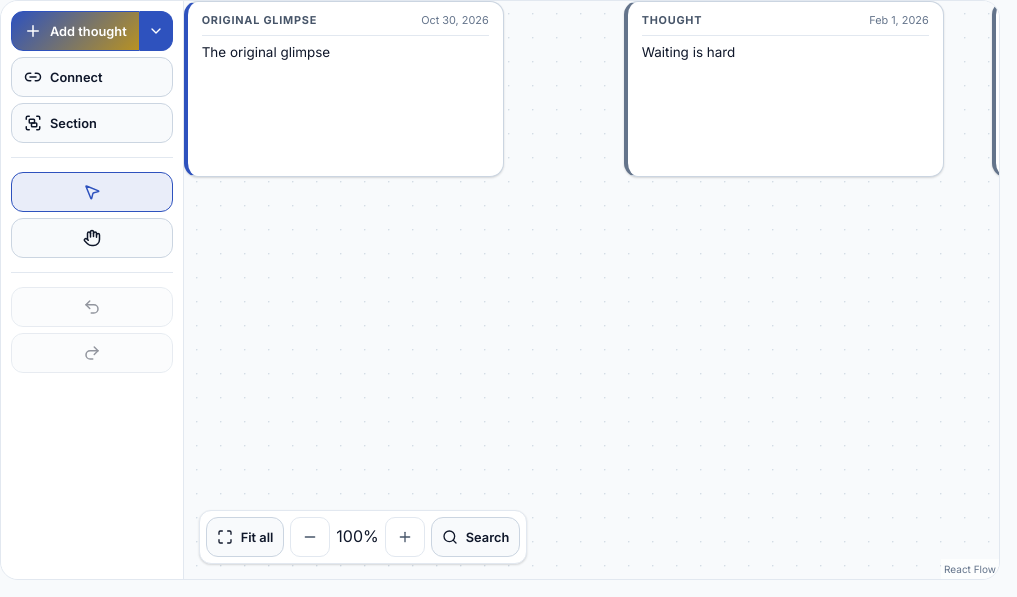
Scenario: adding thoughts › opens a panel, keeps what is typed if it is closed, and puts the new thought on the board when added
The width and height of the screenshot is (1017, 597).
Click the button "Add thought".
click(75, 31)  # box [11,11,140,51]
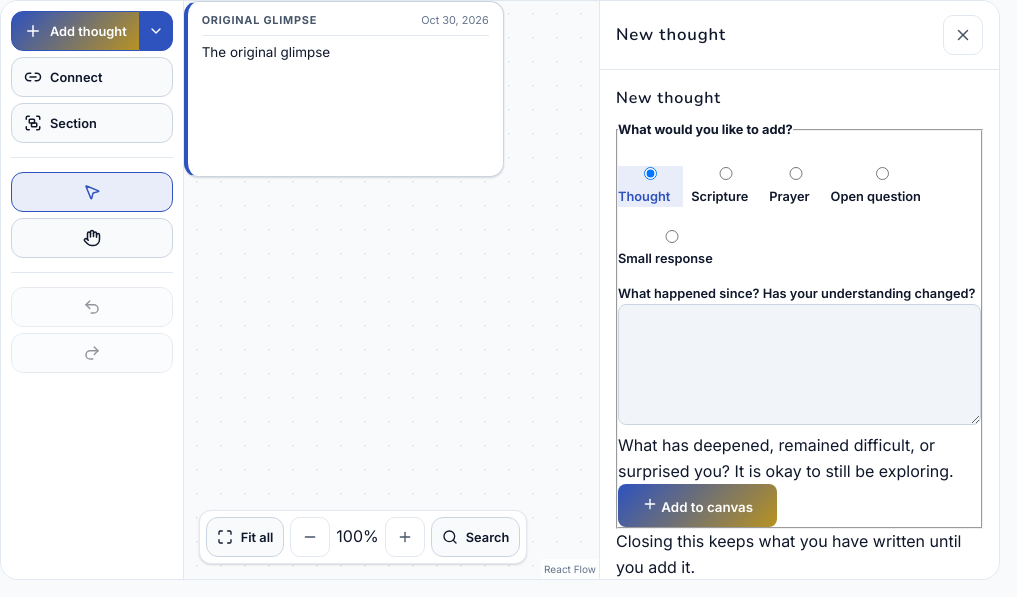
Type "Half a thought" into the text box.
click(800, 365); type("Half a thought")  # box [618,304,981,425]
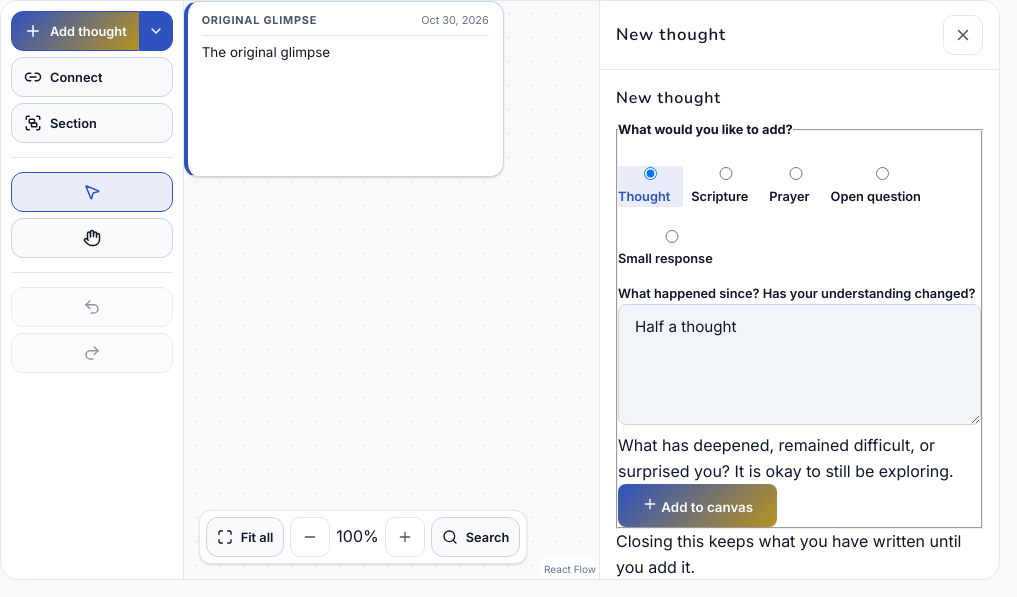
Click the button named "Close new thought".
click(963, 35)  # box [943,15,983,55]
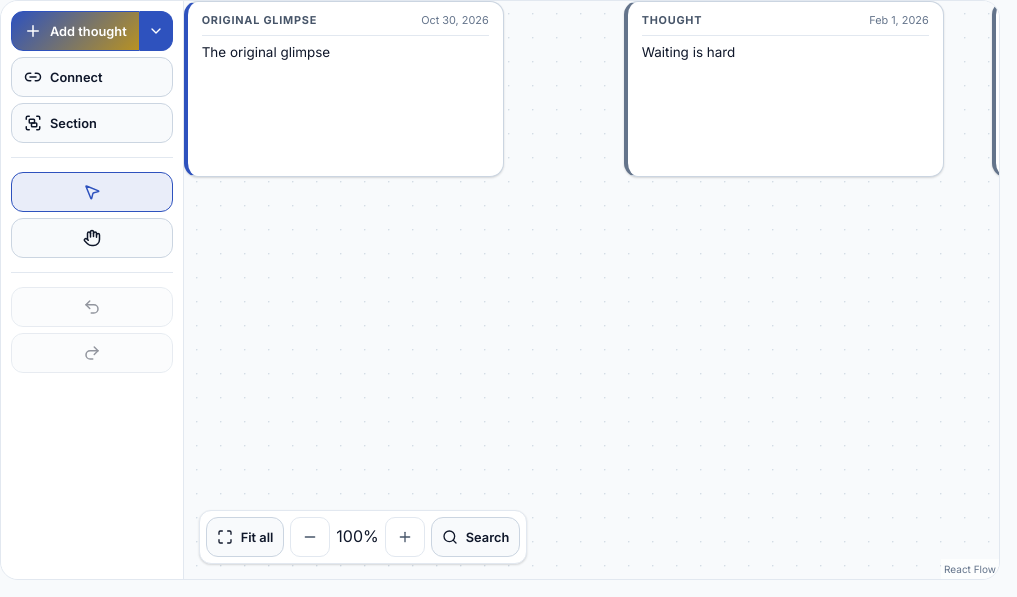
Check: the heading "New thought" is gone
Click the button "Add thought".
click(75, 31)  # box [11,11,140,51]
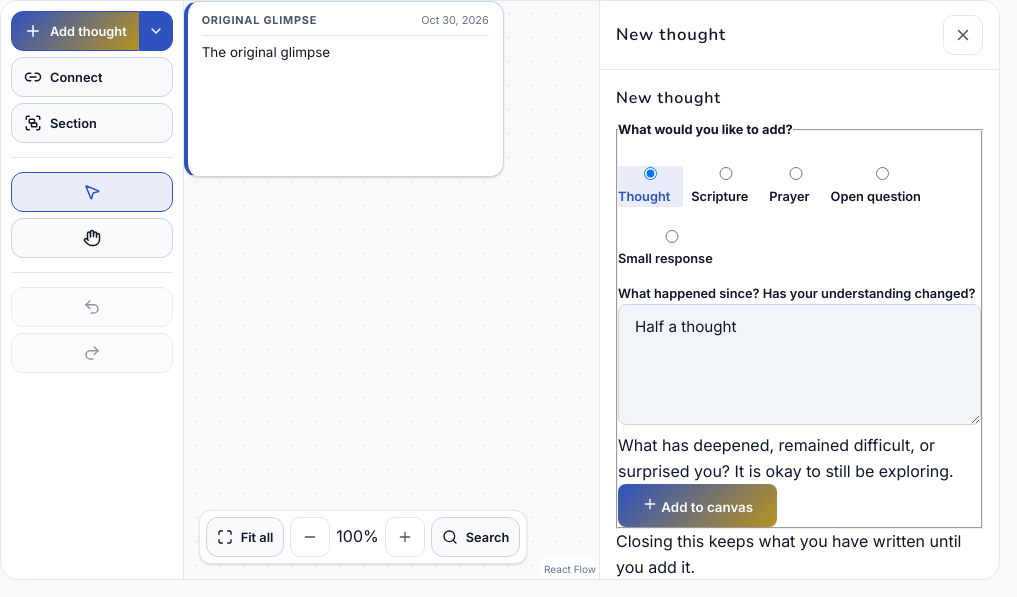
Check: the text box holds "Half a thought"
Replace the text in the text box with "A new thought" at (800, 365), box [618,304,981,425]
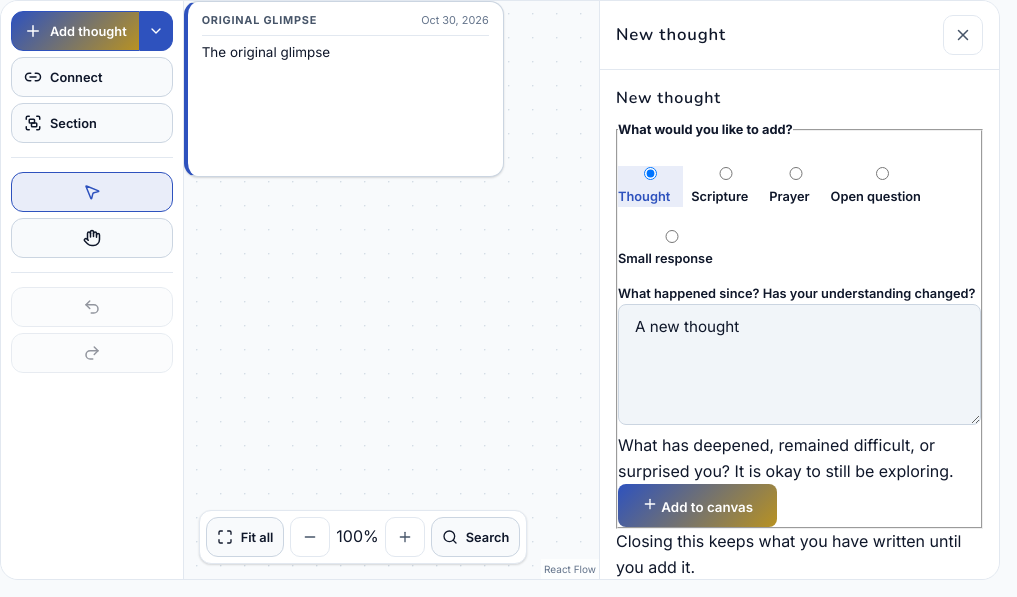
Click the button "Add to canvas".
click(698, 506)  # box [618,484,777,527]
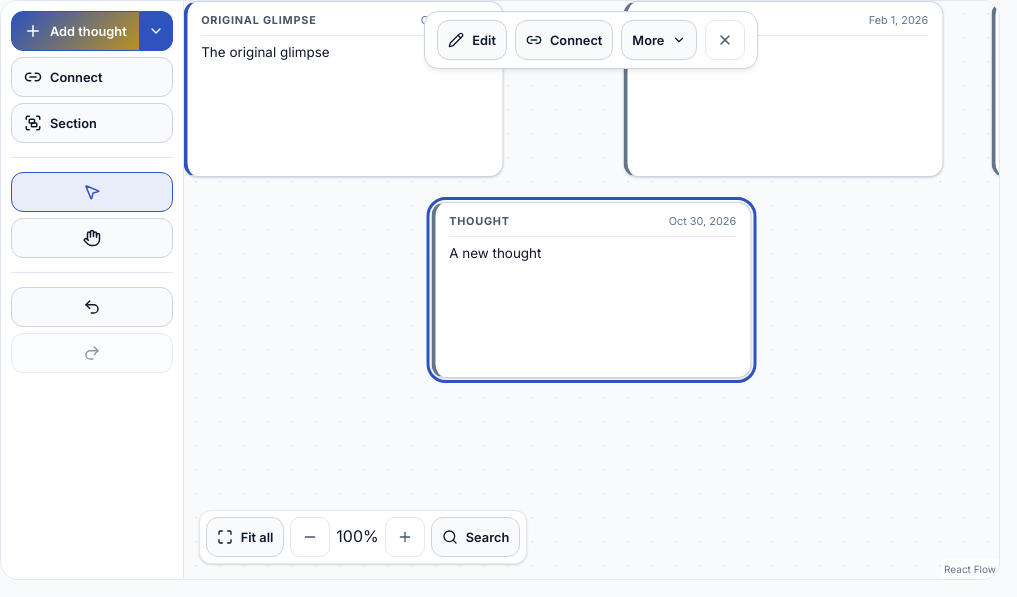
Check: the text "A new thought" is shown, box [449,245,542,261]
